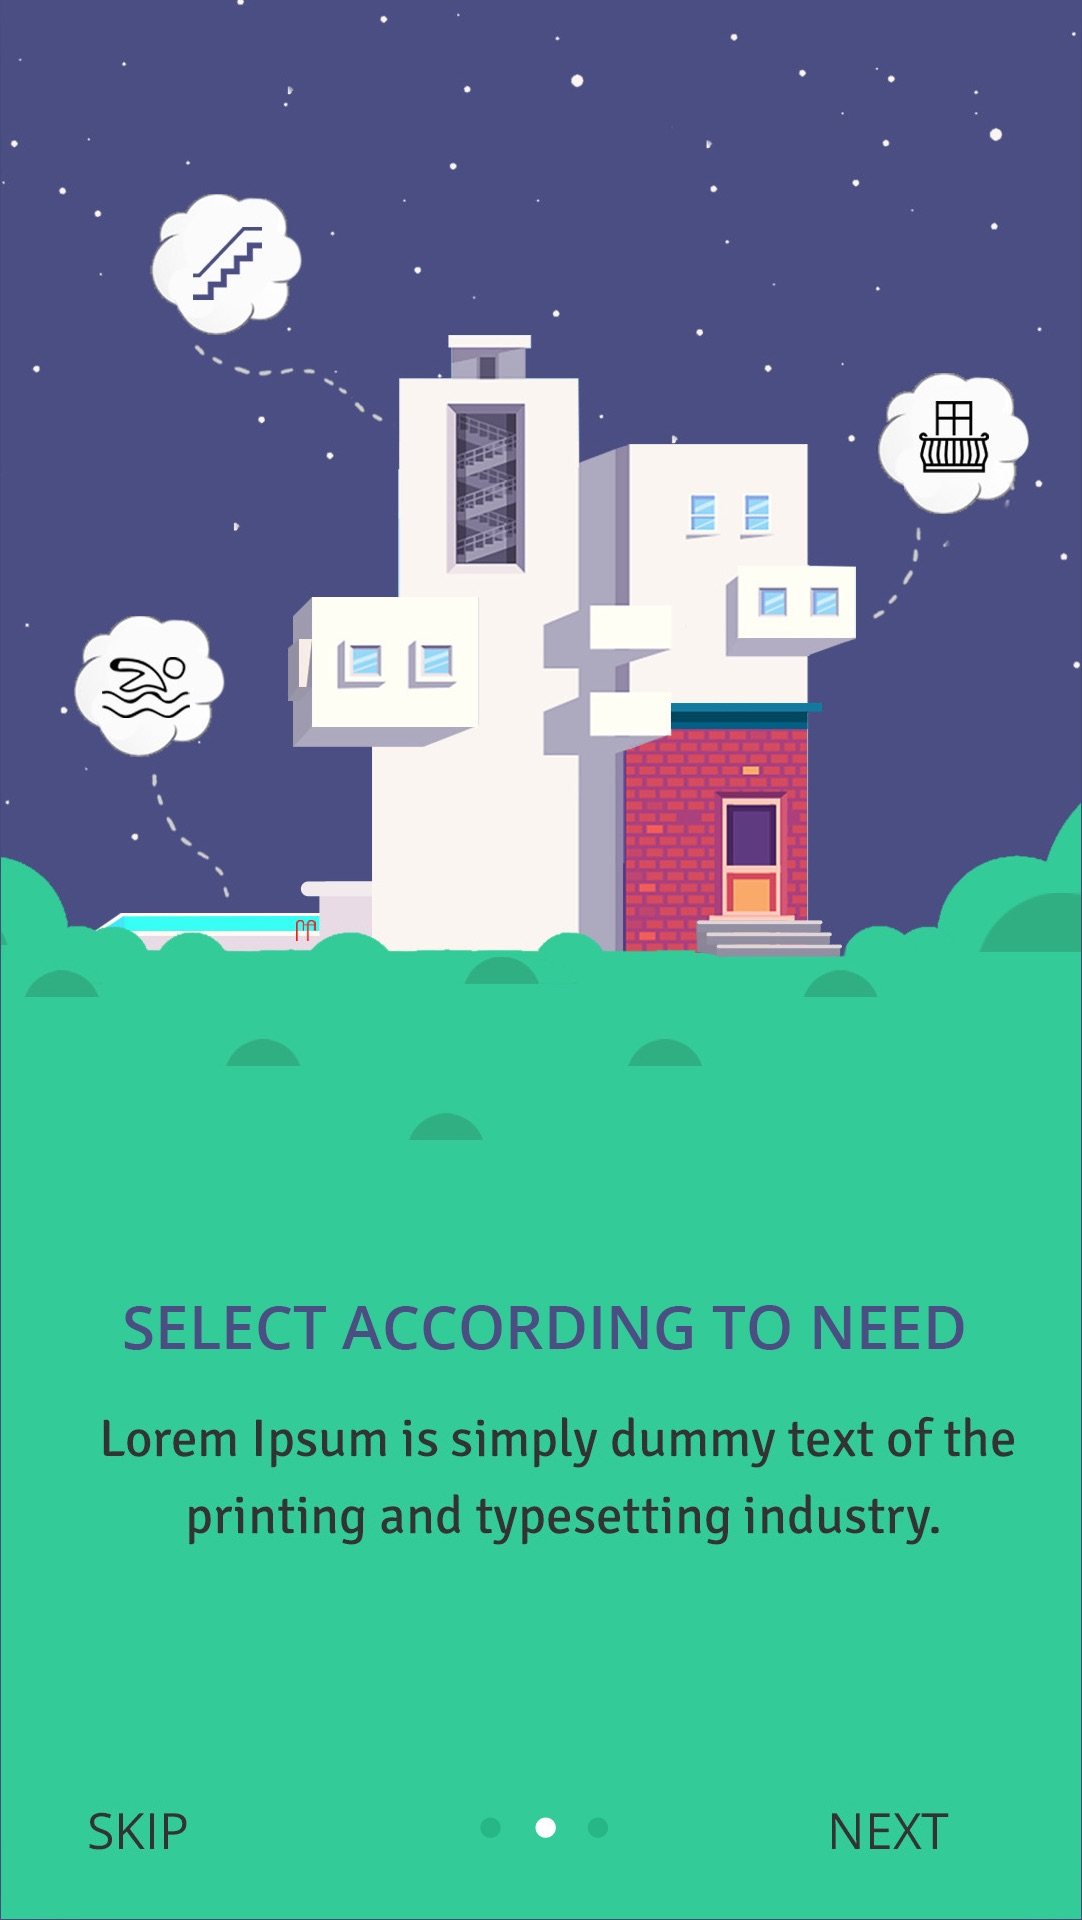Image: (1, 1, 1082, 1143)
PageIndicator: (478, 1816, 610, 1840)
Text: (104, 1416, 1015, 1545), (124, 1305, 965, 1352), (832, 1811, 949, 1851), (90, 1812, 188, 1851)
